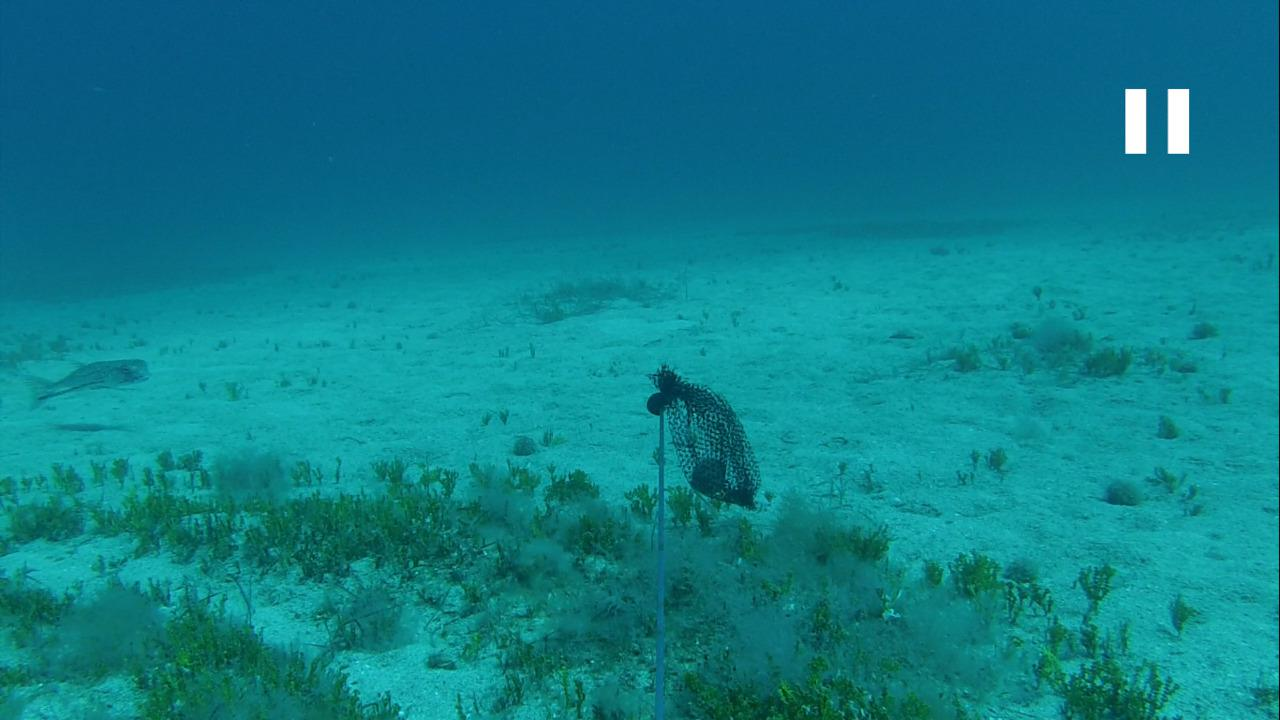dactylopterus: (14, 351, 150, 407)
